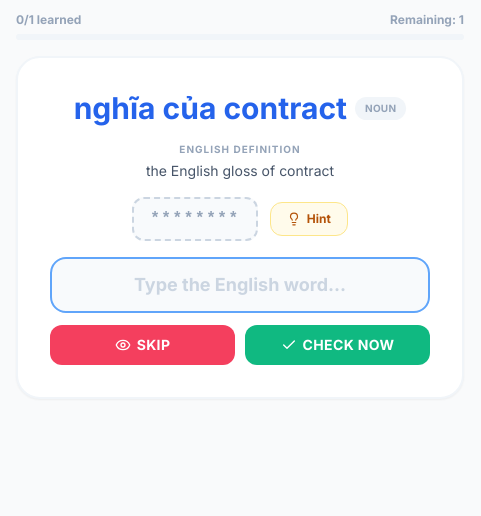
Scenario: GuessWordSession — 3-level hint progression › the hint button disables once the answer has been checked
Type "contract" into the field with placeholder "Type the English word..." at (240, 285), box [50,257,430,313]
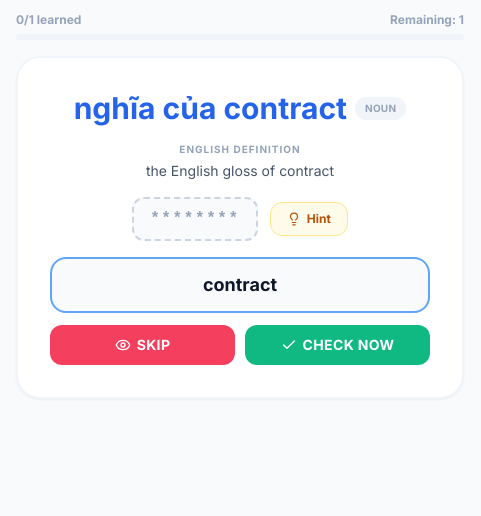
Click the button "Check Now" at (338, 345), box [245,325,430,365]
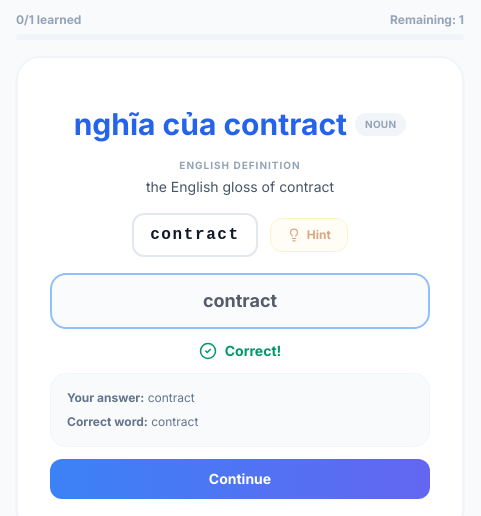
Result: the button "Hint" is disabled at [270,218,348,252]
